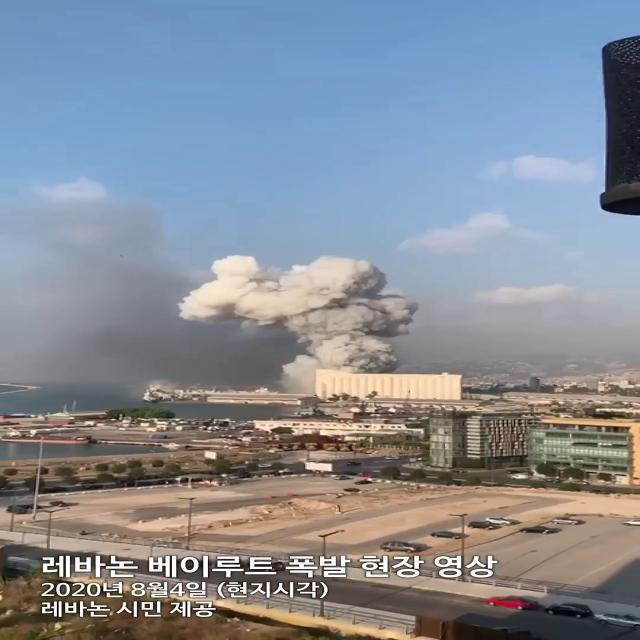explosion: (141, 230, 450, 422)
